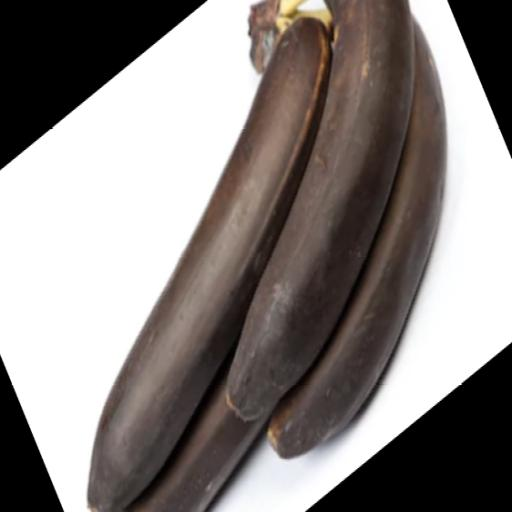banana-overripe: (52, 0, 468, 512)
